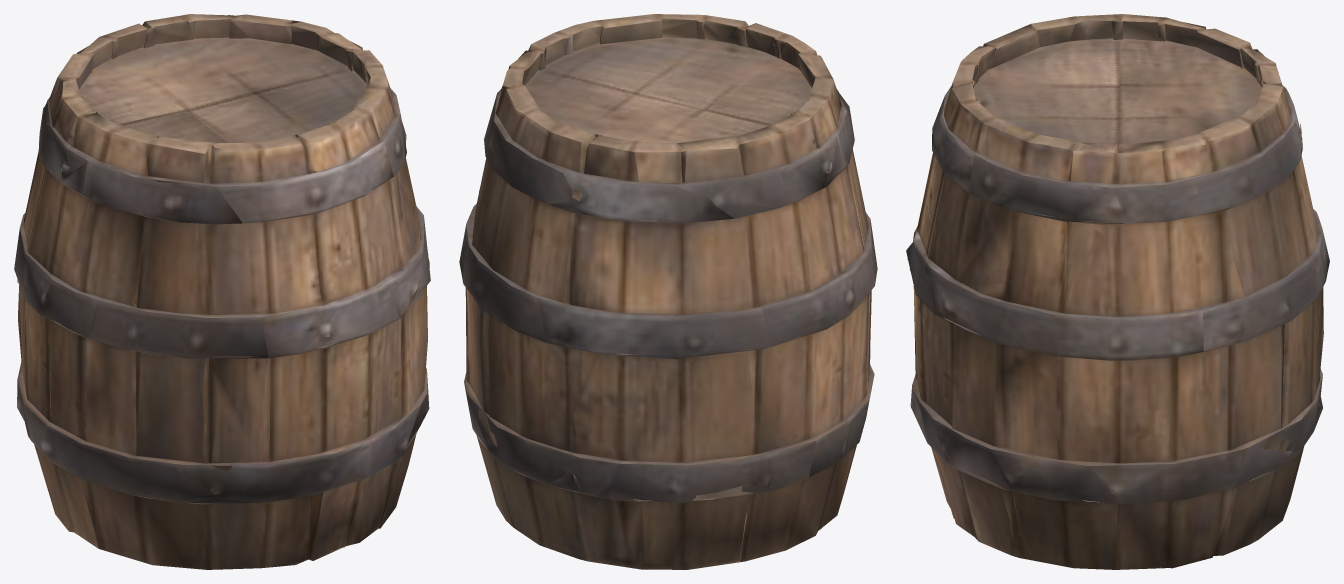
The picture shows the model from 3 angles, left to right: view 1: azimuth 30°, elevation 25°; view 2: azimuth 150°, elevation 25°; view 3: azimuth 270°, elevation 25°; orthographic projection.
Visible parts, largest first — view 1: geometry_0; view 2: geometry_0; view 3: geometry_0.
Boxes of the visible parts, x1,y1,x2,y2 form: geometry_0: [14, 14, 430, 569]; geometry_0: [459, 14, 877, 569]; geometry_0: [906, 14, 1329, 569].
Size of the model in its own units: 0.7789 by 0.8491 by 0.7791.
1 material, 1 textured.
